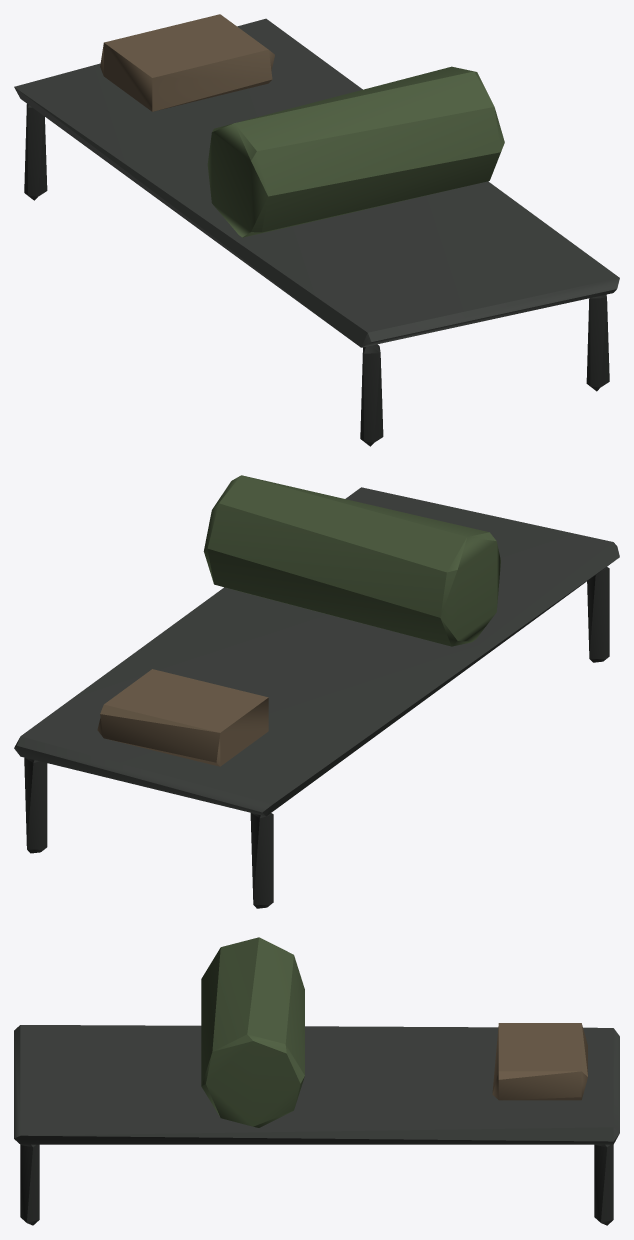
Rendered from cot_bedroll_lod1.glb.
The picture shows the model from 3 angles, top to bottom: view 1: azimuth 30°, elevation 25°; view 2: azimuth 150°, elevation 25°; view 3: azimuth 270°, elevation 25°; orthographic projection. The views are drawn at different scales.
Visible parts, largest first — view 1: prop.cot_bedroll; view 2: prop.cot_bedroll; view 3: prop.cot_bedroll.
Boxes of the visible parts, box(x1,y1,x2,y2) form: prop.cot_bedroll: box(14, 14, 619, 446); prop.cot_bedroll: box(14, 475, 619, 908); prop.cot_bedroll: box(14, 937, 619, 1225).
Bounding box in the file's own units: 0.4831 × 0.3999 × 1.15.
